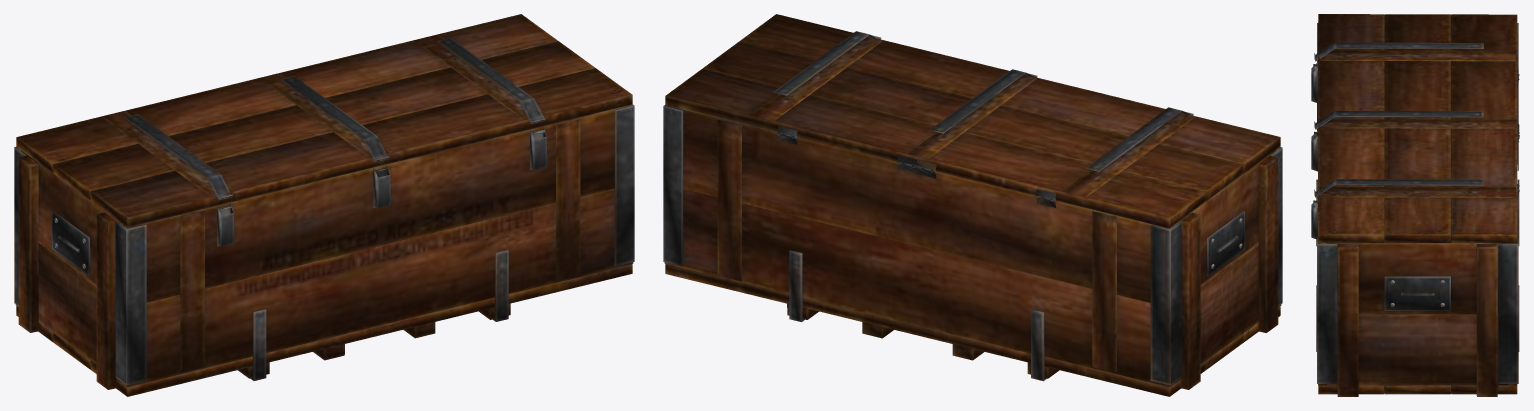
Rendered from wooden_military_crate.glb.
The picture shows the model from 3 angles, left to right: view 1: azimuth 30°, elevation 25°; view 2: azimuth 150°, elevation 25°; view 3: azimuth 270°, elevation 25°; orthographic projection. The views are drawn at different scales.
Parts seen in each view (by area): view 1: wooden_military_crate; view 2: wooden_military_crate; view 3: wooden_military_crate.
Part boxes in pixels (bbox=[...]): wooden_military_crate: bbox=[14, 14, 634, 396]; wooden_military_crate: bbox=[663, 14, 1282, 396]; wooden_military_crate: bbox=[1311, 14, 1519, 396].
Size of the model in its own units: 1.24 by 0.4639 by 0.4801.
Materials: 1 (1 with a texture image).
